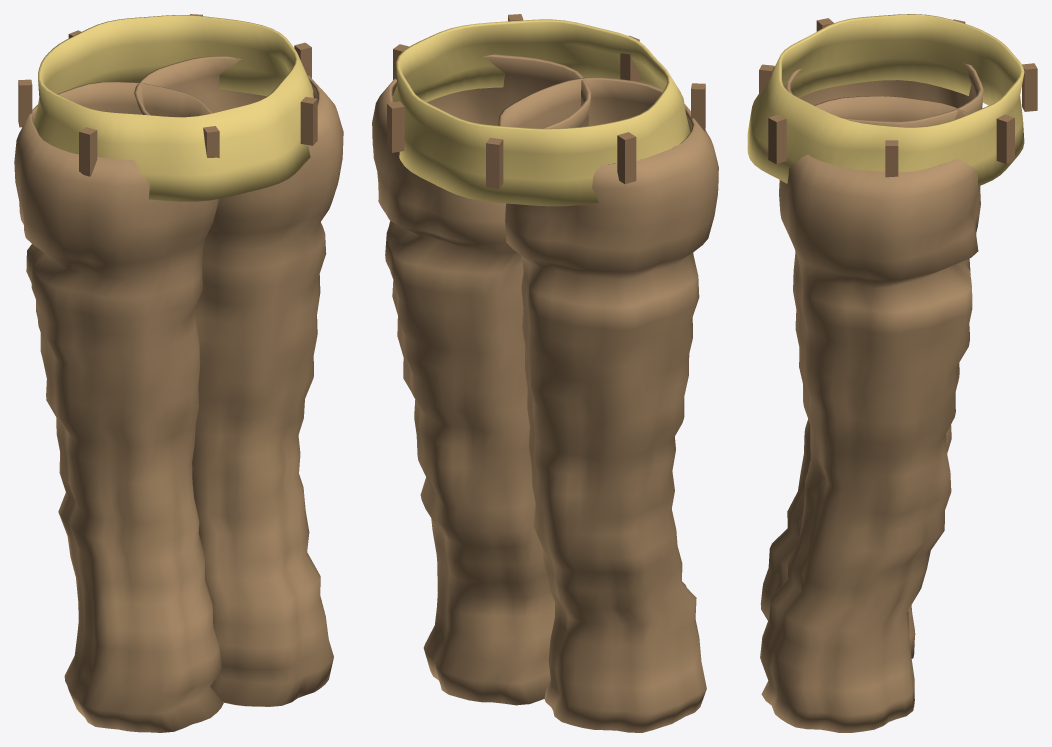
The model's file is stoffhose.glb.
3 views of the same model, side by side, from view 1: azimuth 30°, elevation 25°; view 2: azimuth 150°, elevation 25°; view 3: azimuth 270°, elevation 25° (orthographic). The views are drawn at different scales.
Visible parts, largest first — view 1: G_stoffhose; view 2: G_stoffhose; view 3: G_stoffhose.
Part boxes in pixels (x1,y1,x2,y2): G_stoffhose: (14,14,343,732); G_stoffhose: (372,14,718,732); G_stoffhose: (747,14,1037,732).
Size of the model in its own units: 0.3805 by 0.7187 by 0.3117.
